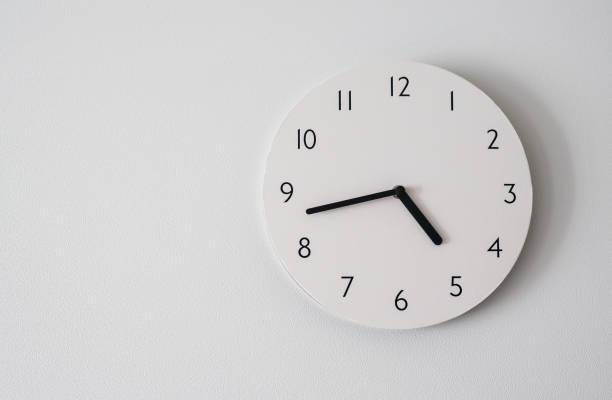clock: (231, 45, 548, 332)
